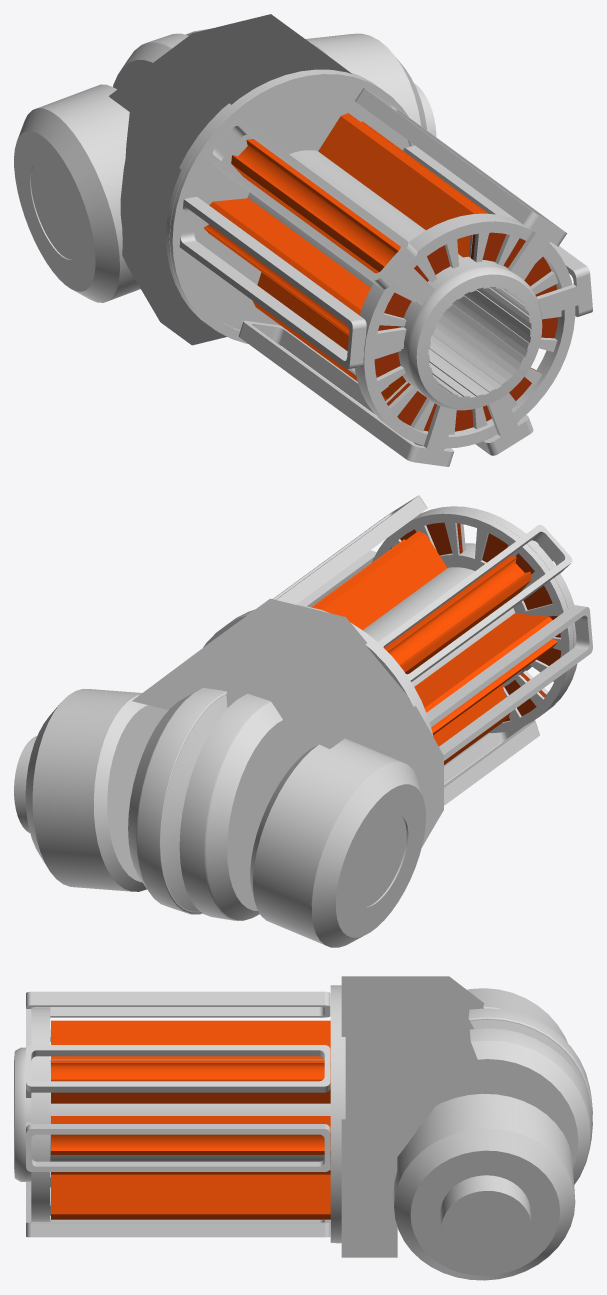
Rendered from gravity3.obj.
The picture shows the model from 3 angles, top to bottom: view 1: azimuth 30°, elevation 25°; view 2: azimuth 150°, elevation 25°; view 3: azimuth 270°, elevation 25°; orthographic projection. The views are drawn at different scales.
Parts seen in each view (by area): view 1: pCube36; view 2: pCube36; view 3: pCube36.
Part boxes in pixels (x1,y1,x2,y2): pCube36: [14, 14, 592, 466]; pCube36: [14, 495, 592, 947]; pCube36: [14, 976, 592, 1280].
Size of the model in its own units: 36.33 by 25.2 by 55.66.
